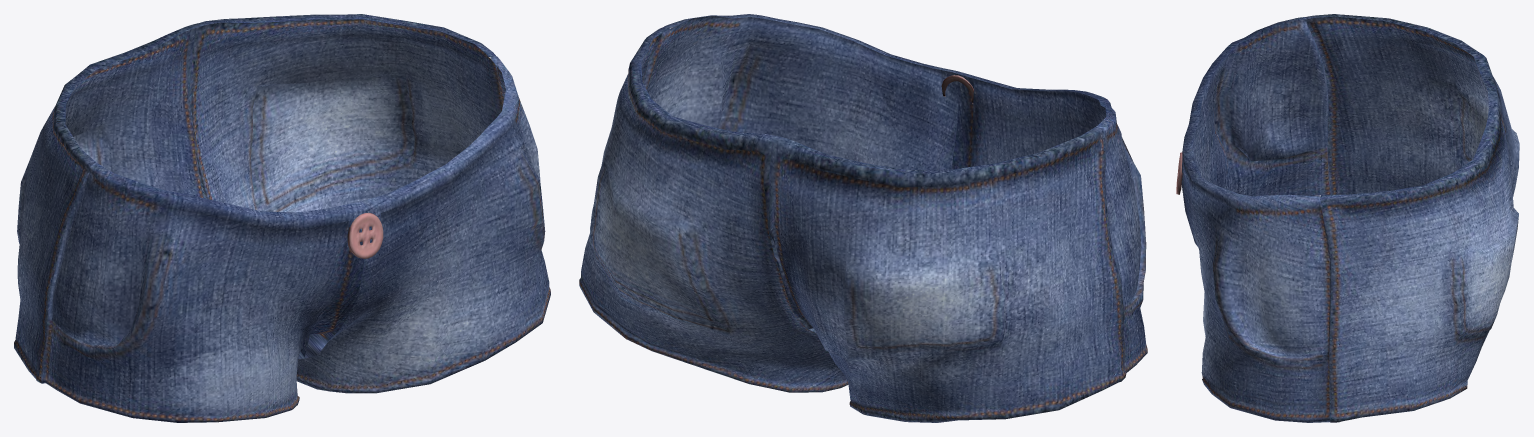
The model's file is bottom_denim_shorts.gltf.
3 views of the same model, side by side, from view 1: azimuth 30°, elevation 25°; view 2: azimuth 150°, elevation 25°; view 3: azimuth 270°, elevation 25° (orthographic). The views are drawn at different scales.
Parts seen in each view (by area): view 1: bottom_denim_shorts; view 2: bottom_denim_shorts; view 3: bottom_denim_shorts.
Boxes of the visible parts, <box> form: bottom_denim_shorts: <box>14,14,550,422</box>; bottom_denim_shorts: <box>579,14,1147,422</box>; bottom_denim_shorts: <box>1176,14,1519,422</box>.
Bounding box in the file's own units: 0.3746 × 0.2105 × 0.2469.
1 material, 1 textured.
